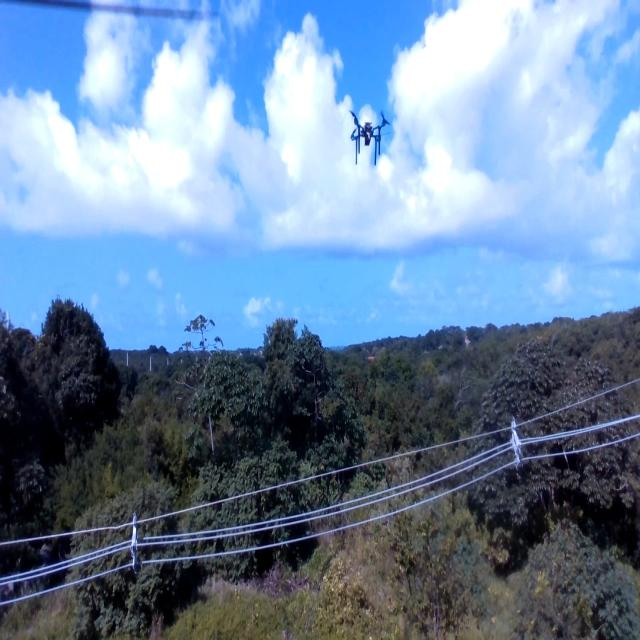-uav-: (339, 95, 395, 174)
